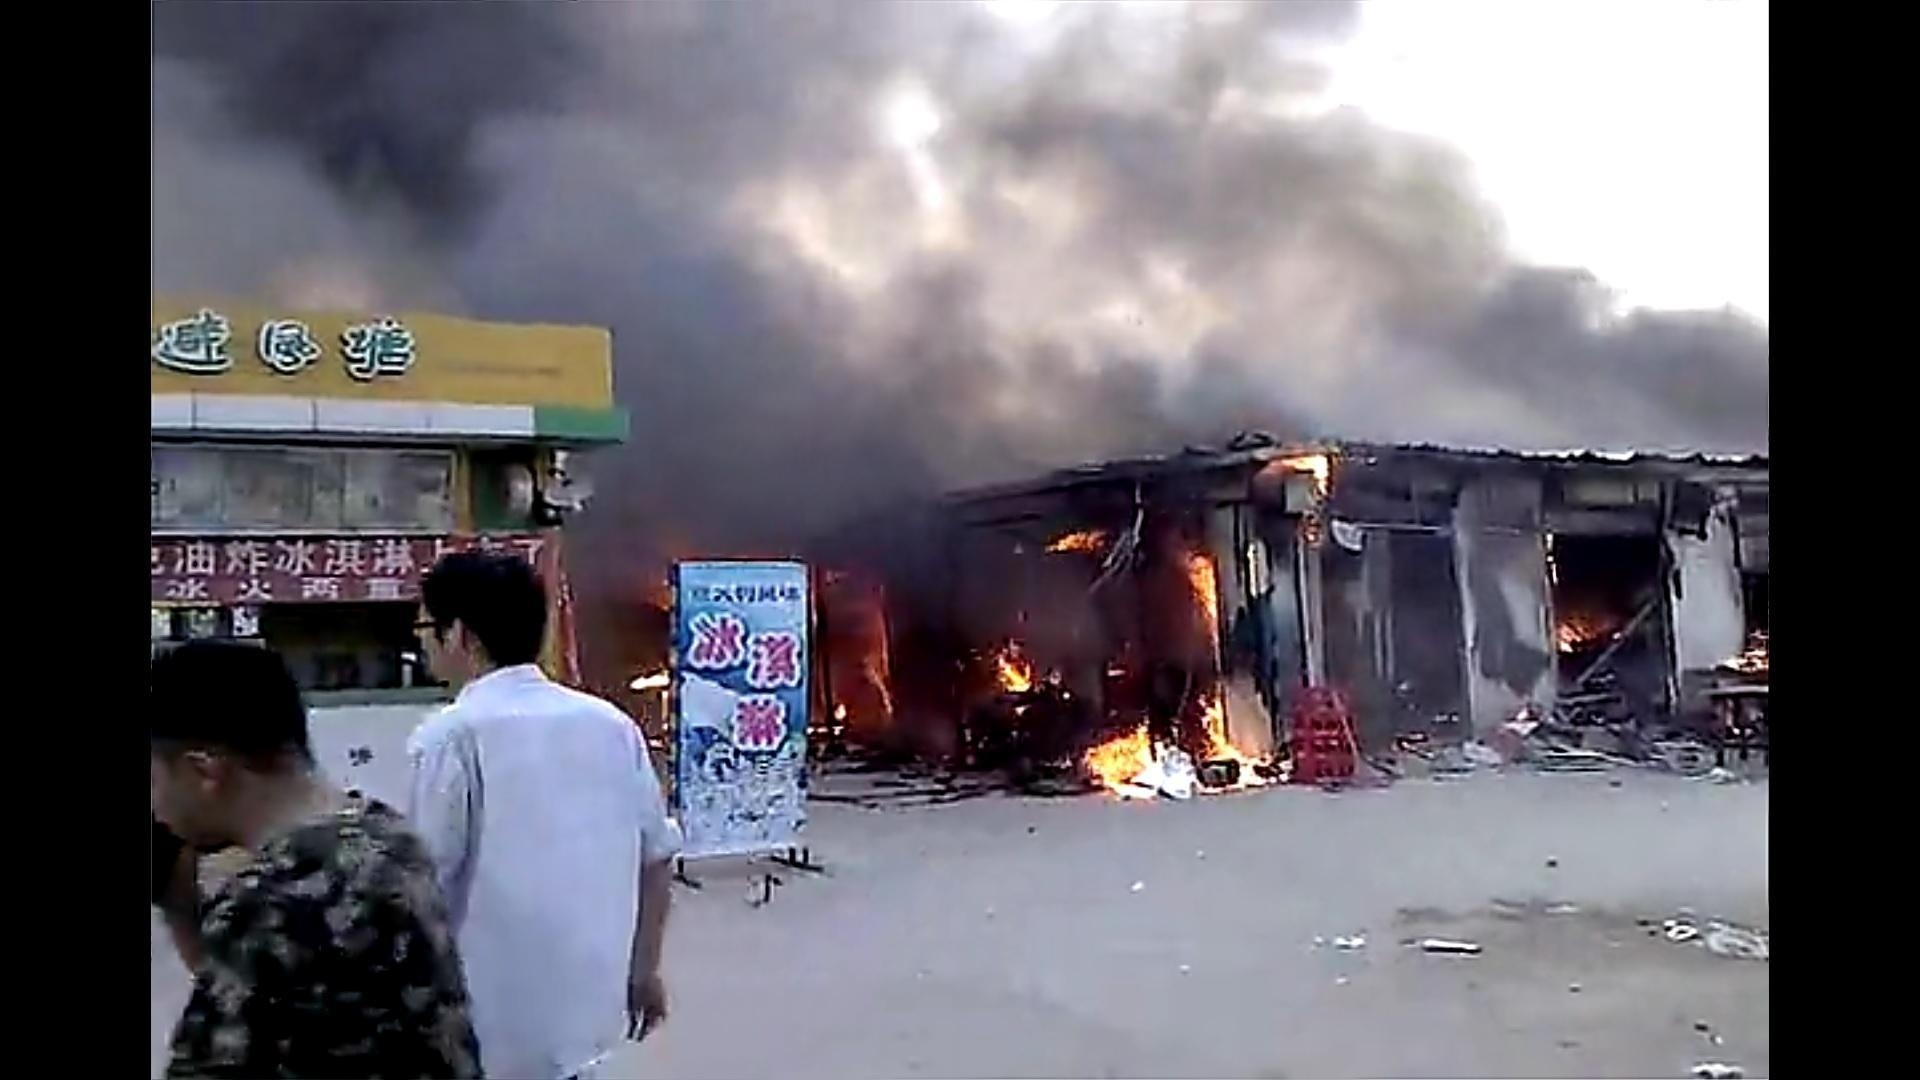fire: (1073, 688, 1266, 796), (1185, 549, 1222, 638), (1046, 520, 1113, 556)
